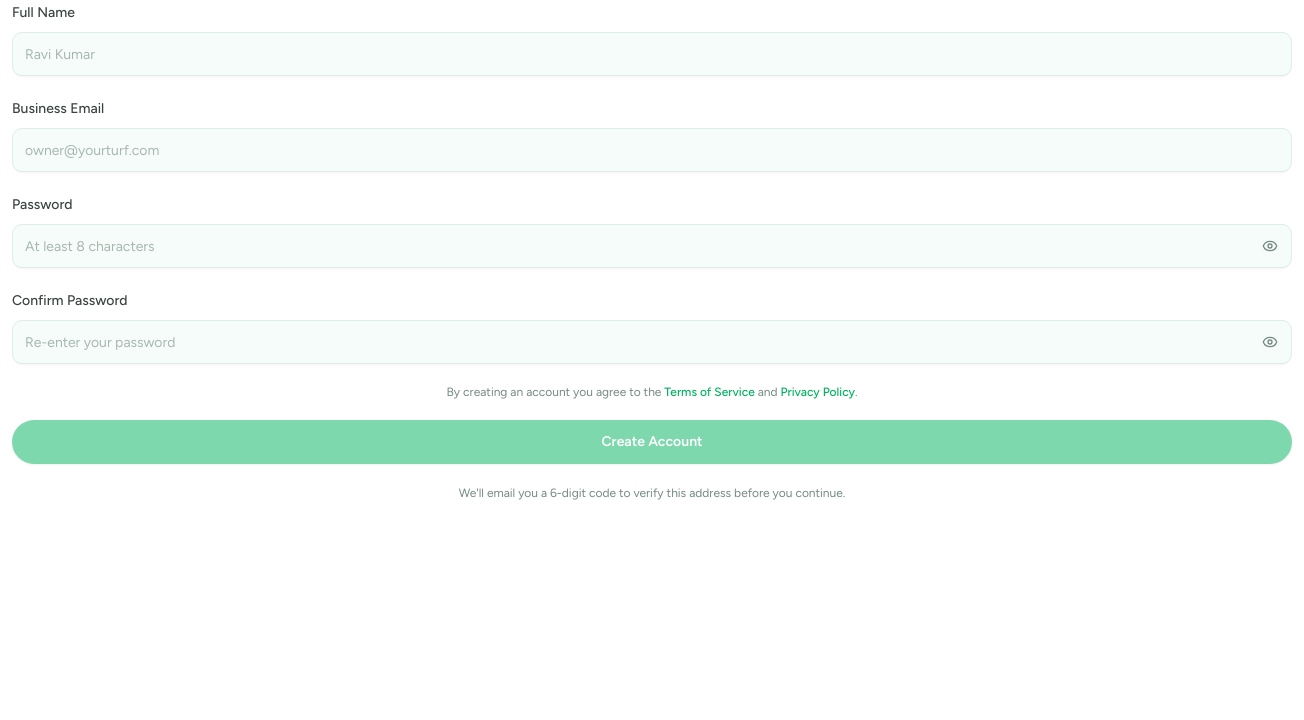
Test: SignupForm › reports a password under the minimum length
The width and height of the screenshot is (1304, 720).
In the password field labelled "Password": (652, 246) [12, 224, 1292, 268], type "turf12"
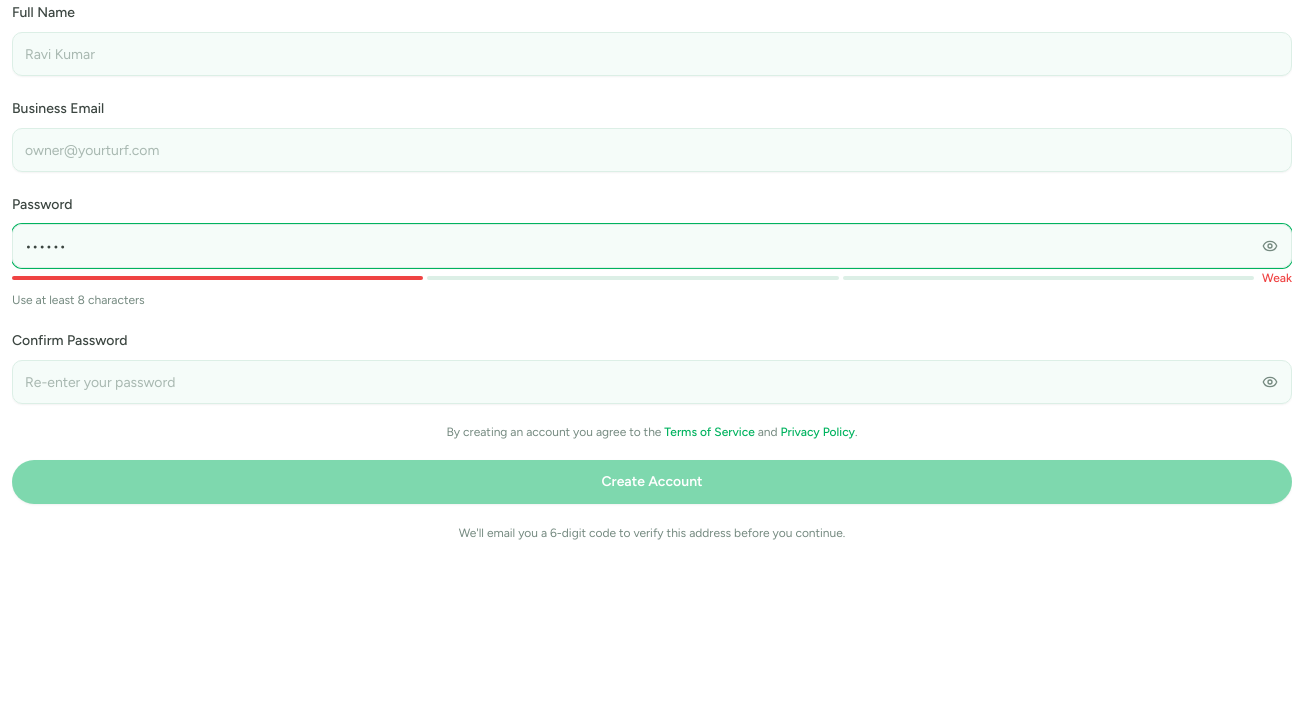
Press Tab
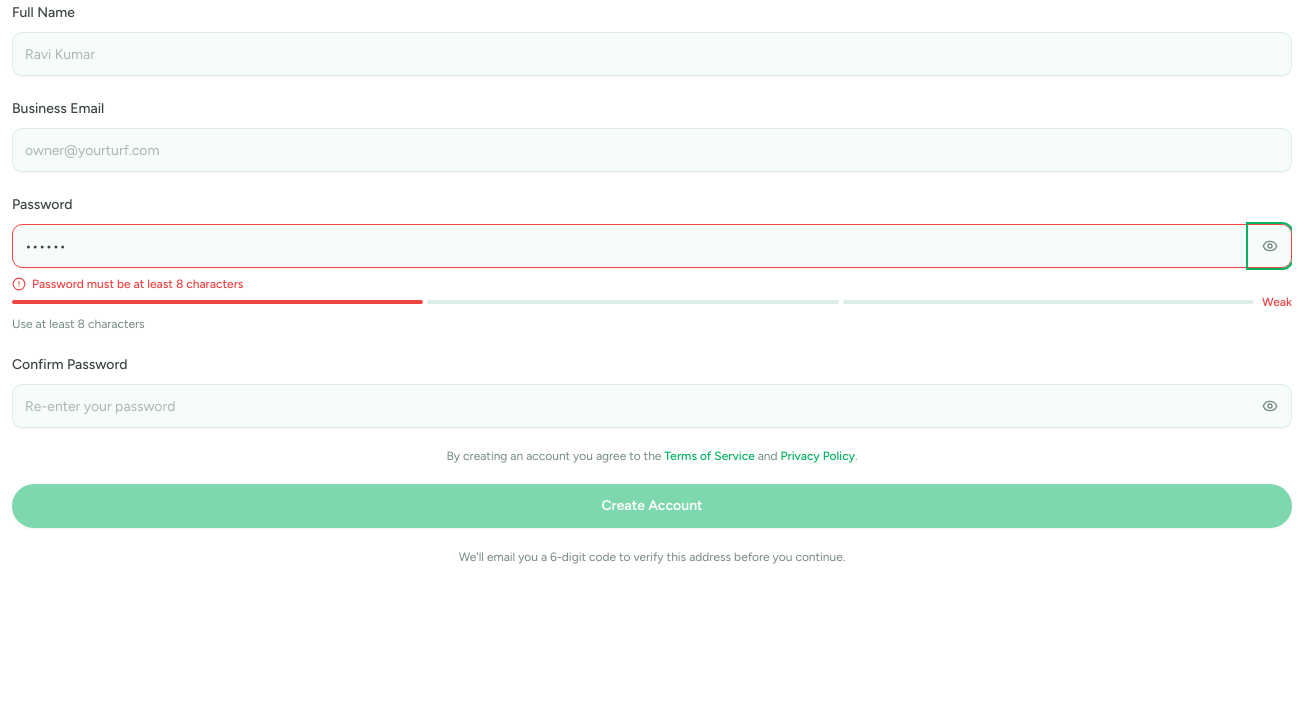
Expected: the text "Password must be at least 8 characters" is shown, [32, 276, 243, 292]
